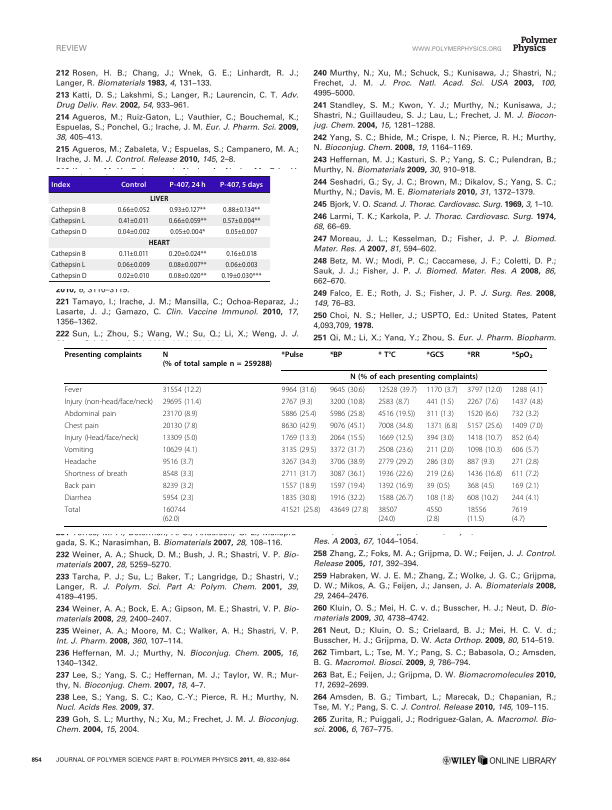borderless: (63, 346, 547, 526), (49, 174, 270, 281)
cell: (162, 350, 273, 368), (349, 372, 479, 382), (64, 397, 154, 407), (64, 433, 140, 443), (64, 350, 143, 359), (64, 469, 128, 479), (64, 409, 117, 419), (162, 505, 186, 523), (377, 385, 418, 395), (219, 180, 264, 189), (162, 385, 202, 395), (162, 397, 202, 407), (377, 409, 416, 419), (377, 505, 398, 523), (466, 505, 487, 523), (220, 272, 262, 281), (329, 385, 366, 395), (466, 385, 503, 395), (329, 397, 366, 407), (329, 409, 366, 419), (329, 421, 366, 431), (377, 421, 414, 431), (466, 421, 503, 431), (329, 433, 366, 443), (377, 433, 414, 443), (466, 433, 503, 443), (329, 445, 366, 455), (377, 445, 414, 455), (466, 445, 503, 455), (329, 457, 366, 467), (377, 457, 414, 467), (329, 469, 366, 479), (377, 469, 414, 479), (466, 469, 503, 479), (281, 385, 317, 395), (162, 409, 198, 419), (281, 409, 317, 419), (64, 421, 100, 431), (162, 421, 198, 431), (281, 421, 317, 431), (162, 433, 198, 443), (281, 433, 317, 443), (162, 445, 198, 455), (281, 445, 317, 455), (281, 457, 317, 467), (281, 469, 317, 479), (281, 505, 321, 514), (329, 505, 369, 514), (168, 205, 207, 214), (222, 205, 261, 214), (168, 216, 207, 225), (222, 216, 261, 225), (168, 250, 207, 259), (168, 261, 207, 270), (168, 272, 207, 281), (169, 180, 207, 189), (329, 481, 366, 490), (377, 481, 414, 490), (329, 493, 366, 502), (377, 493, 414, 502), (50, 205, 87, 214), (50, 227, 87, 236), (169, 227, 206, 236), (50, 250, 87, 259), (50, 272, 87, 281), (425, 385, 458, 395), (511, 385, 544, 395), (281, 397, 314, 407), (377, 397, 410, 407), (466, 397, 499, 407), (511, 397, 544, 407), (466, 409, 499, 419), (425, 421, 458, 431), (511, 421, 544, 431), (64, 457, 97, 467), (162, 457, 195, 467), (162, 469, 195, 479), (281, 481, 317, 490), (281, 493, 317, 502), (425, 505, 443, 523), (50, 216, 86, 225), (50, 261, 86, 270), (116, 261, 151, 270), (224, 261, 259, 270), (511, 505, 528, 523), (117, 205, 151, 214), (117, 227, 151, 236), (425, 397, 455, 407), (425, 409, 455, 419), (425, 433, 455, 443), (64, 445, 94, 455), (425, 445, 455, 455), (425, 457, 455, 467), (425, 469, 455, 479), (162, 481, 195, 490), (162, 493, 195, 502), (466, 493, 499, 502), (117, 216, 150, 225), (225, 227, 258, 236), (225, 250, 258, 259), (117, 272, 150, 281), (511, 409, 540, 419), (511, 433, 540, 443), (511, 445, 540, 455), (466, 457, 495, 467), (511, 457, 540, 467), (511, 469, 540, 479), (64, 481, 96, 490), (118, 250, 149, 259), (425, 493, 455, 502), (466, 481, 495, 490), (511, 481, 540, 490), (511, 493, 540, 502), (64, 493, 92, 502), (120, 180, 147, 189), (425, 481, 451, 490), (511, 350, 534, 360), (281, 350, 304, 359), (64, 385, 83, 395), (50, 180, 71, 189), (377, 350, 397, 359), (425, 350, 445, 359), (148, 239, 171, 246), (64, 505, 81, 514), (149, 194, 169, 201), (466, 350, 481, 359), (329, 350, 343, 359)
